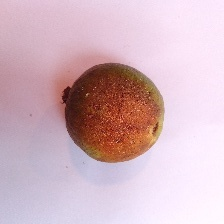guava: (14, 25, 165, 224)
